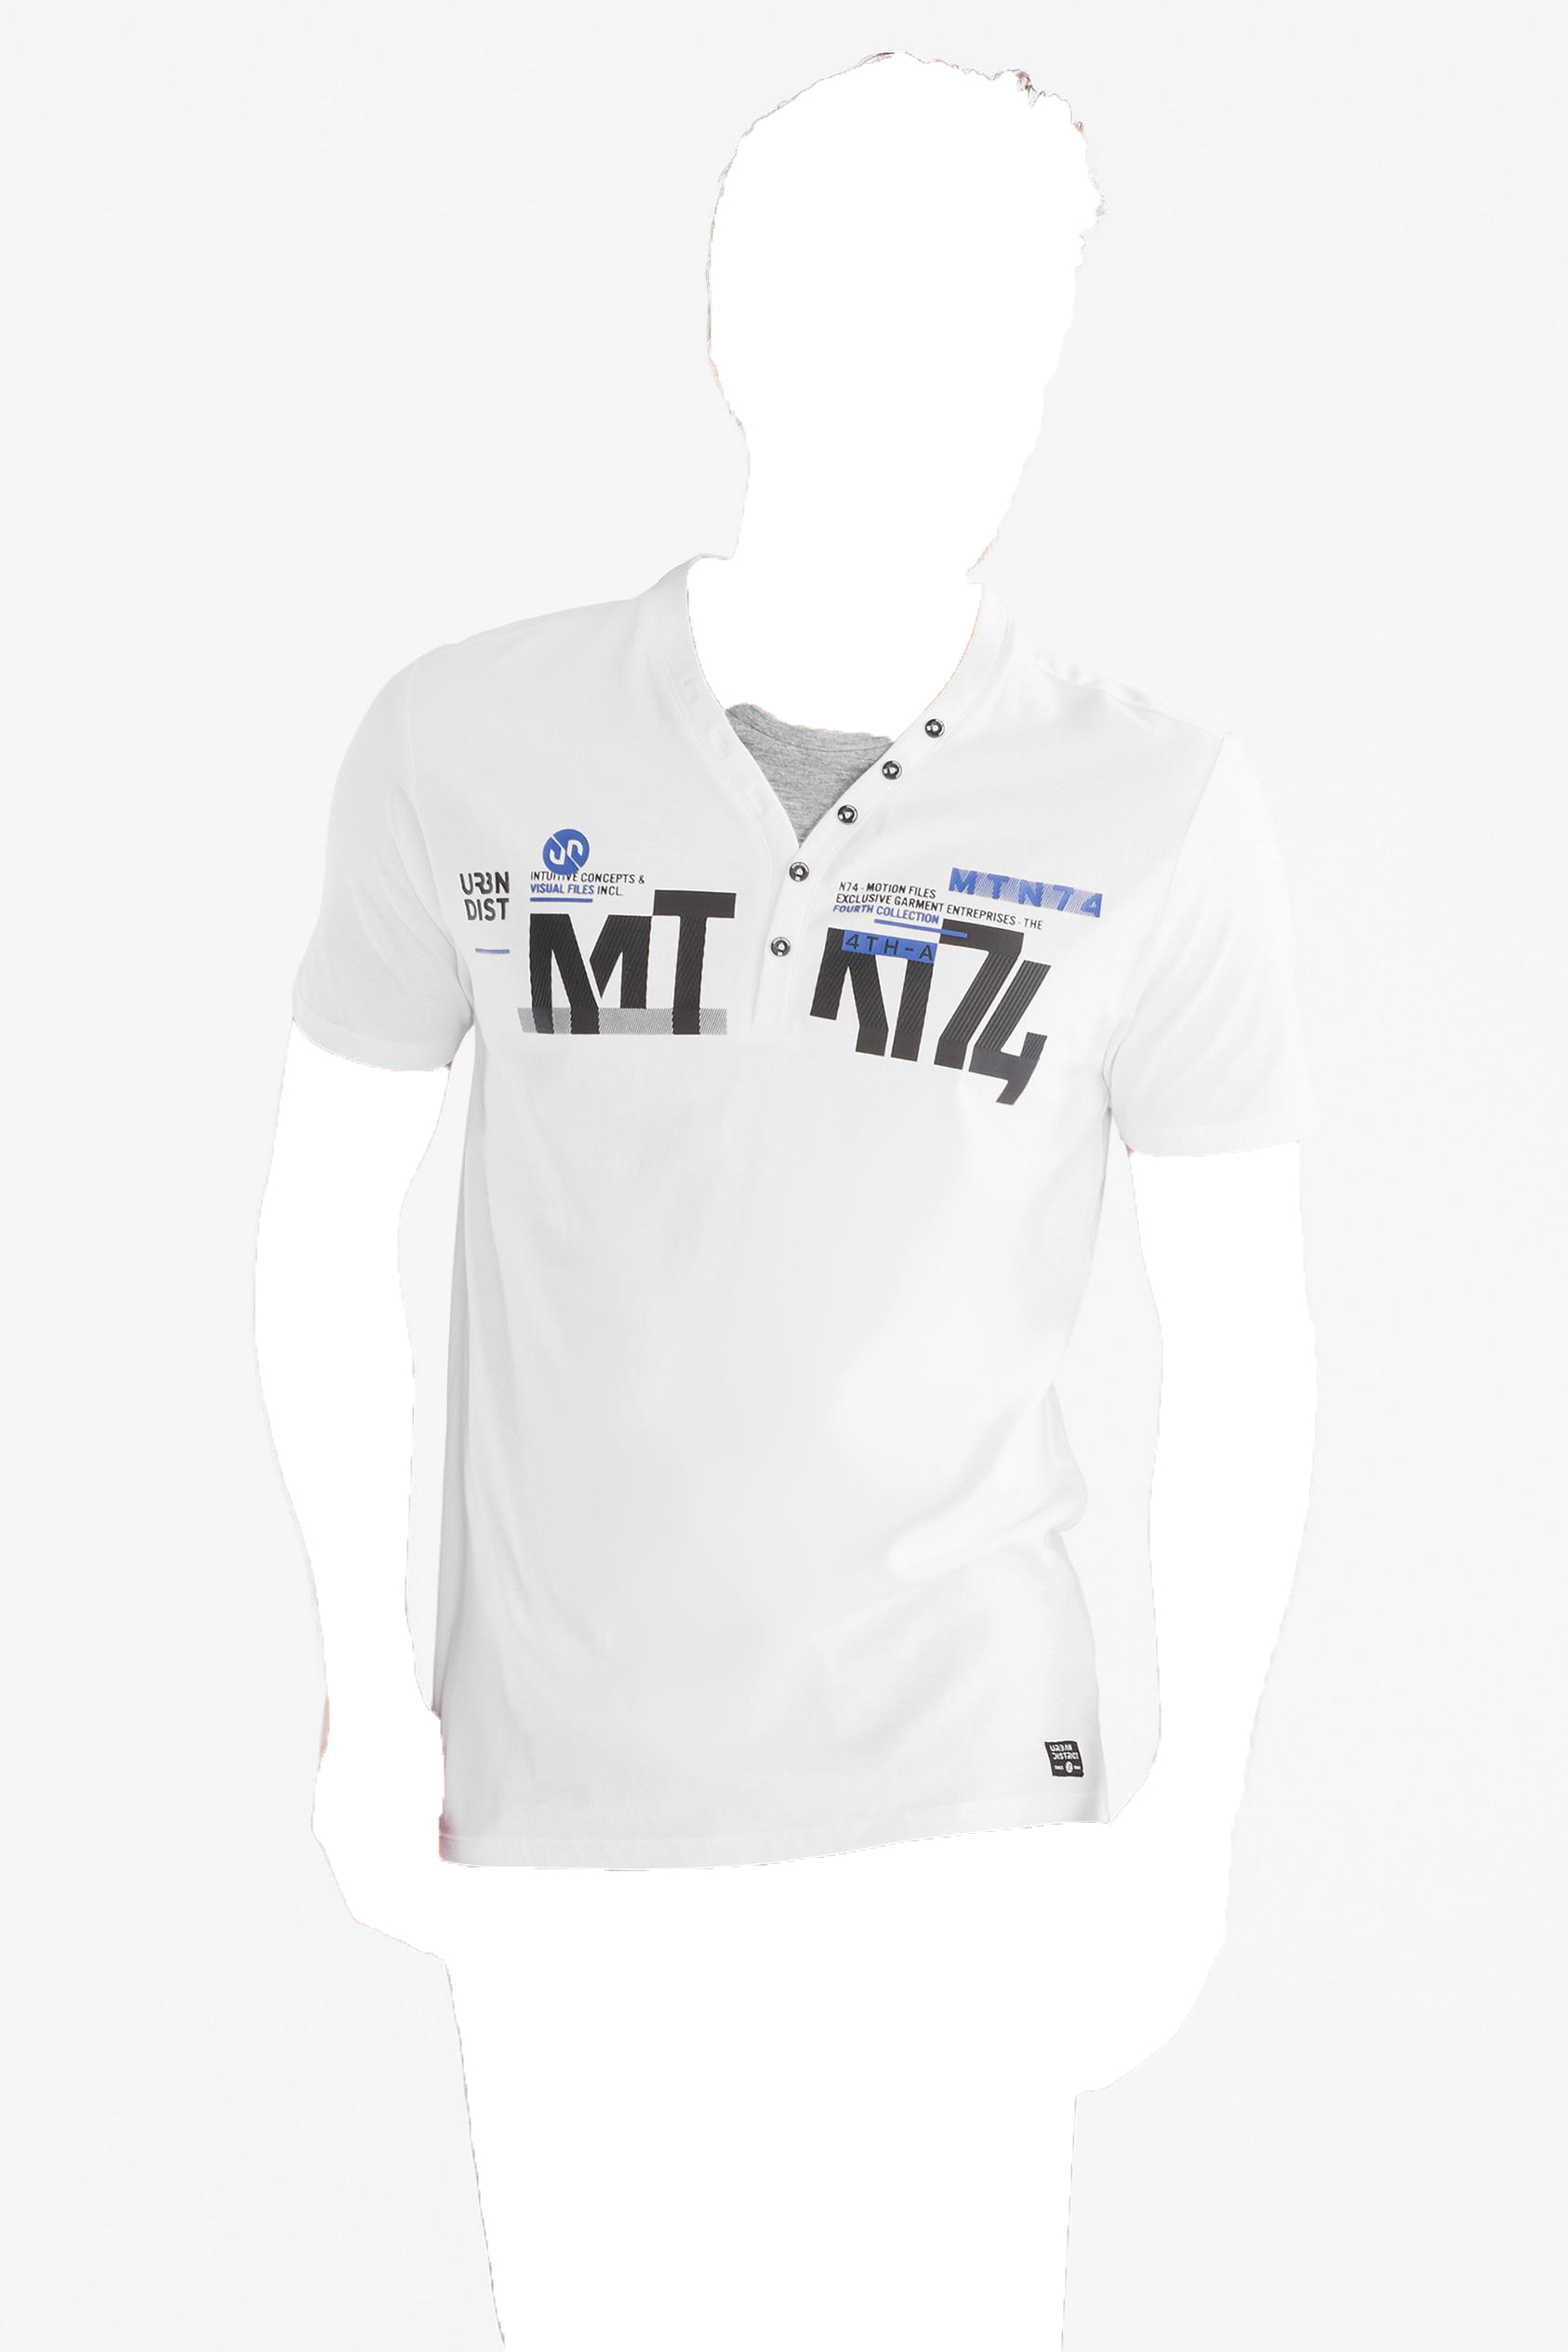teeshirt: (276, 556, 1368, 1890)
